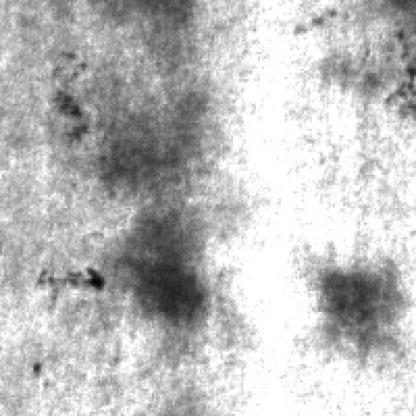patches: (96, 92, 206, 196), (119, 208, 210, 326), (300, 254, 395, 345)
